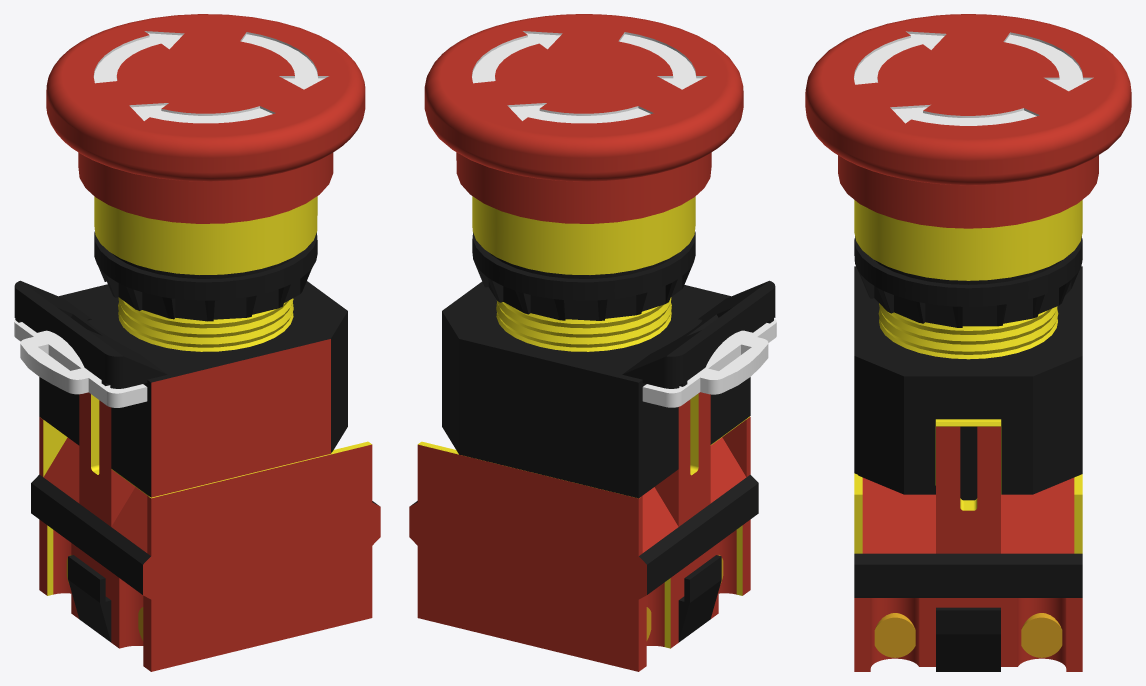
Rendered from Boton_Emergencia v3.fbx.
3 renders of one model, left to right at view 1: azimuth 30°, elevation 25°; view 2: azimuth 150°, elevation 25°; view 3: azimuth 270°, elevation 25°, orthographic. The views are drawn at different scales.
Parts seen in each view (by area): view 1: Body1; view 2: Body1; view 3: Body1.
Boxes of the visible parts, x1,y1,x2,y2 form: Body1: (14,14,380,671); Body1: (409,14,776,671); Body1: (805,14,1131,671).
Size of the model in its own units: 44.06 by 73 by 40.
